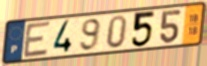0: (105, 14, 129, 49)
4: (52, 19, 74, 55)
5: (130, 9, 158, 48), (159, 9, 183, 45)
9: (79, 18, 103, 51)
E: (22, 20, 52, 60)
